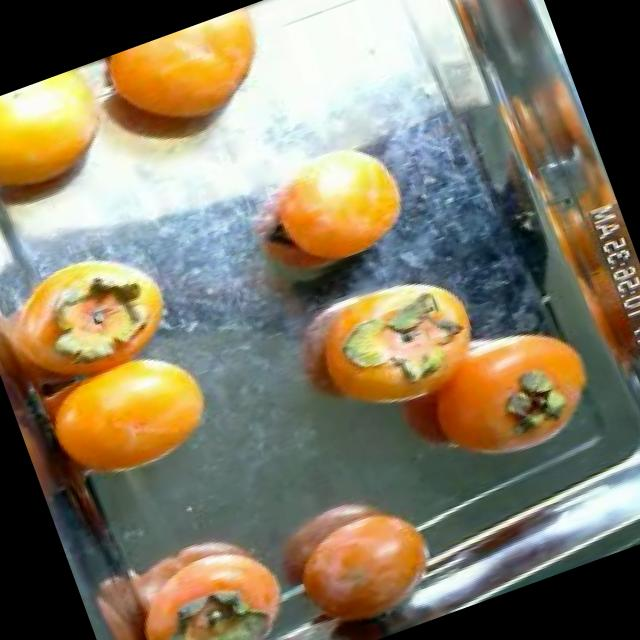Fruit: (13, 318, 245, 516), (403, 296, 625, 489), (218, 116, 437, 306), (244, 456, 464, 640)
